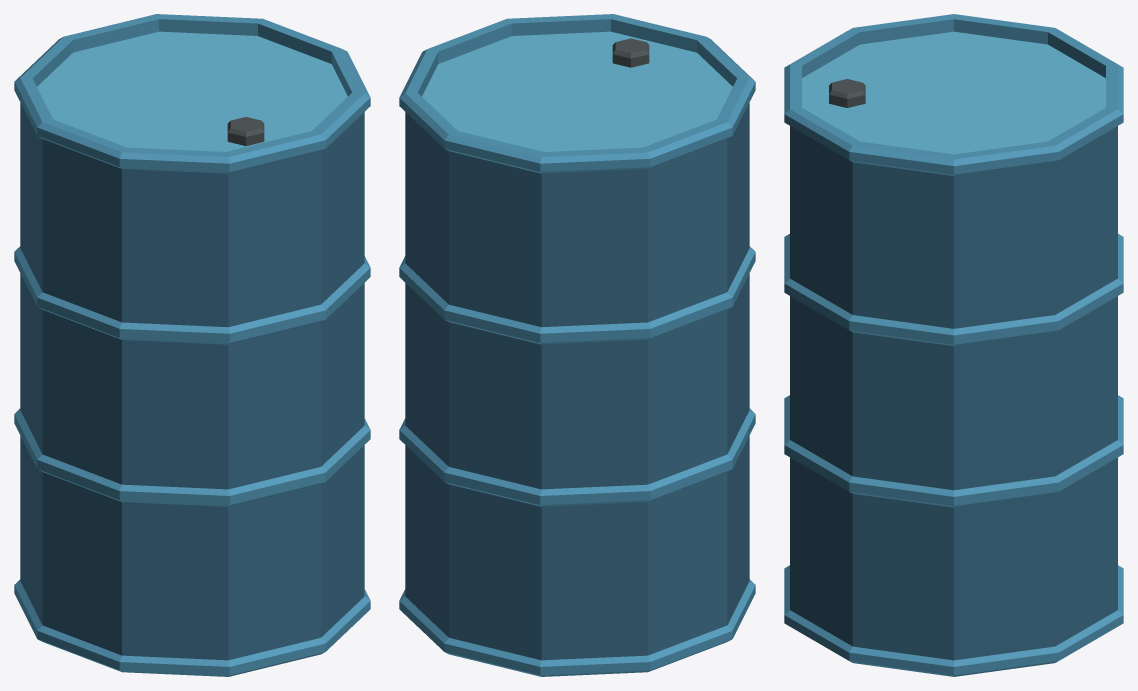
Rendered from Drum_1.FBX.
3 views of the same model, side by side, from view 1: azimuth 30°, elevation 25°; view 2: azimuth 150°, elevation 25°; view 3: azimuth 270°, elevation 25° (orthographic).
Parts seen in each view (by area): view 1: drum_2; view 2: drum_2; view 3: drum_2.
Part boxes in pixels (x1,y1,x2,y2): drum_2: (14,14,370,676); drum_2: (399,14,755,676); drum_2: (784,14,1123,676).
Bounding box in the file's own units: 0.5919 × 0.9483 × 0.5629.
1 material, 1 textured.
